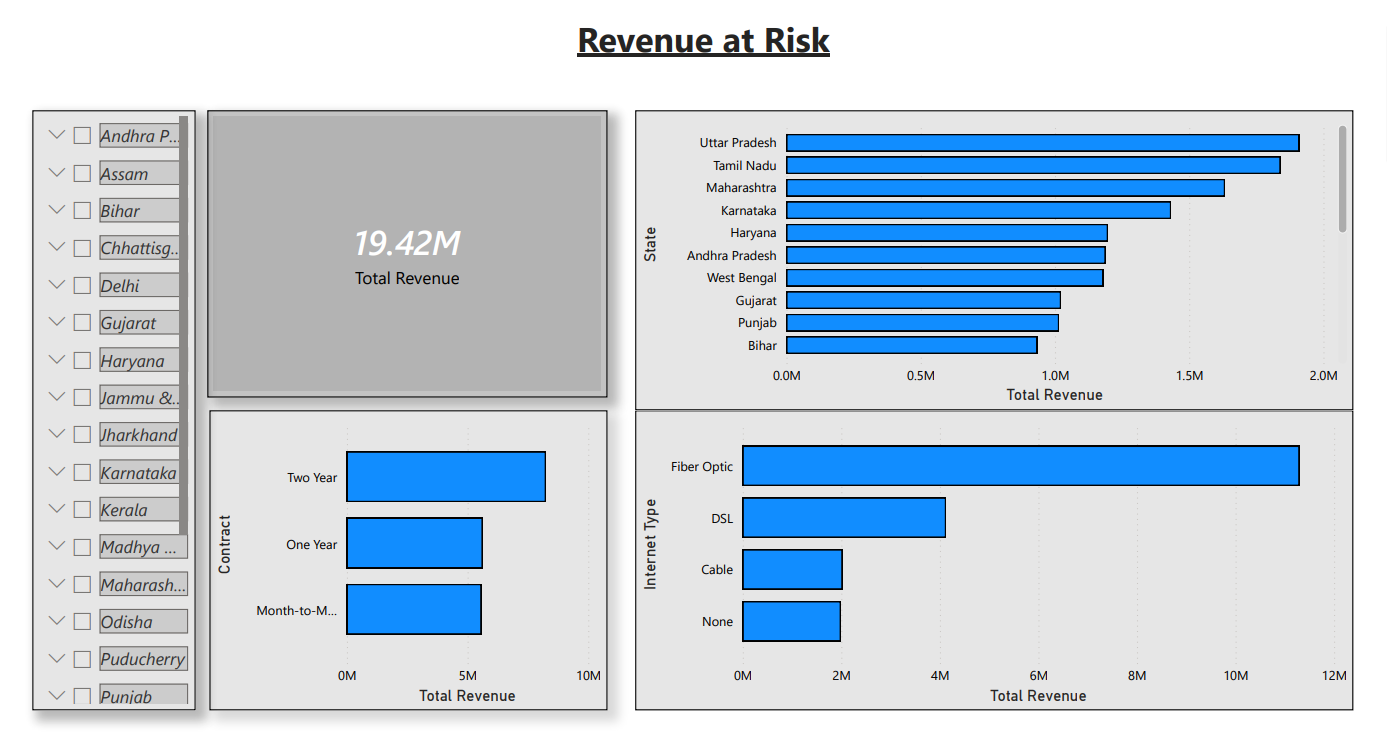

What the dashboard file says about the page in this screenshot:
{"tool":"powerbi","page":{"name":"Revenue at Risk","canvas":[1280,720],"ordinal":1},"visuals":[{"type":"cardVisual","fields":{"Data":["Sum(churn_data.total_revenue)"]},"box":[174.9,112.5,375.4,269],"z":0},{"type":"barChart","fields":{"Category":["churn_data.contract"],"Y":["Sum(churn_data.total_revenue)"]},"box":[177.3,393.8,373,281.3],"z":1000},{"type":"barChart","fields":{"Category":["churn_data.internet_type"],"Y":["Sum(churn_data.total_revenue)"]},"box":[576,393.8,672.6,281.3],"z":2000},{"type":"barChart","fields":{"Category":["churn_data.state"],"Y":["Sum(churn_data.total_revenue)"]},"box":[576,112.5,672.6,281.3],"z":3000},{"type":"slicer","fields":{"Values":["prod_churn.state","prod_churn.internet_type"]},"box":[11,112.5,152.9,562.5],"z":5000},{"type":"textbox","box":[490.2,18.3,299.6,68.5],"z":5001}]}

Visuals, with their boxes in screenshot pixels (x1, y1, x2, y2):
cardVisual - Sum(churn_data.total_revenue): <region>199, 106, 603, 396</region>
barChart - churn_data.contract x Sum(churn_data.total_revenue): <region>202, 409, 603, 712</region>
barChart - churn_data.internet_type x Sum(churn_data.total_revenue): <region>631, 409, 1355, 712</region>
barChart - churn_data.state x Sum(churn_data.total_revenue): <region>631, 106, 1355, 409</region>
slicer - prod_churn.state x prod_churn.internet_type: <region>23, 106, 187, 712</region>
textbox: <region>538, 5, 861, 79</region>
